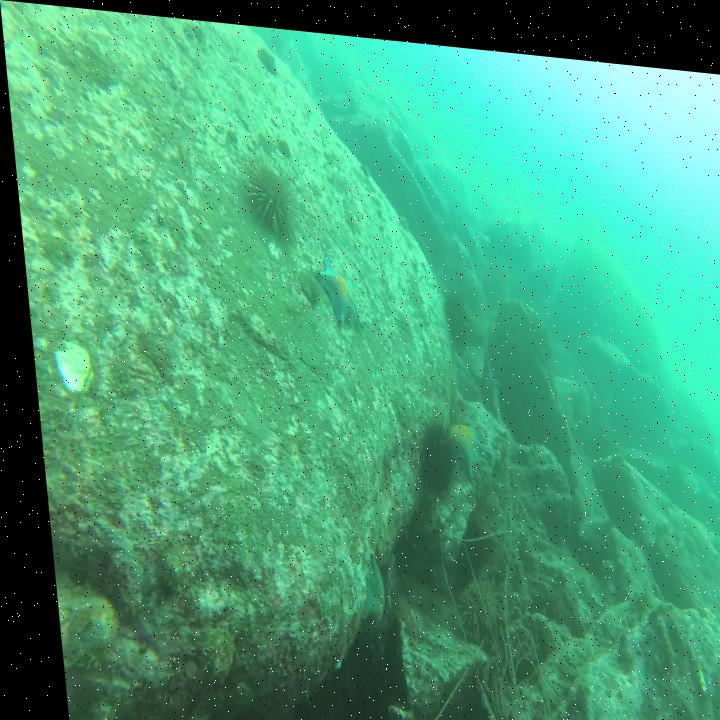echinus: (238, 146, 298, 235), (404, 403, 457, 491), (435, 278, 468, 335)
starfish: (305, 242, 360, 326), (438, 402, 480, 472), (348, 549, 378, 624)
